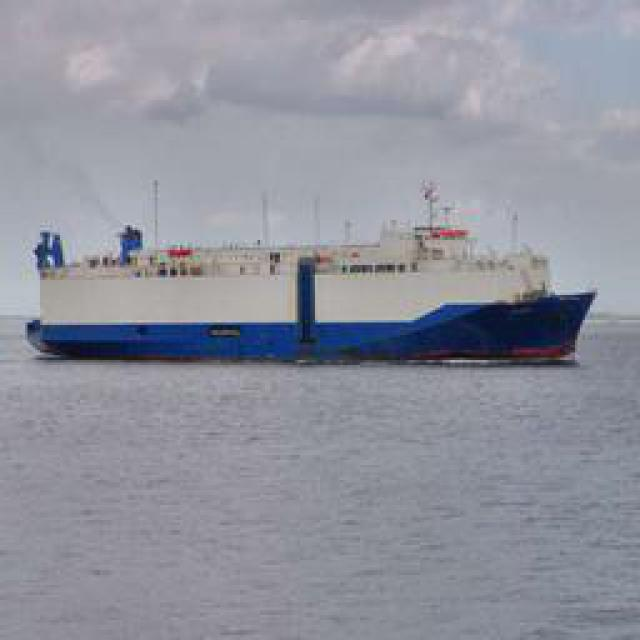Ship: (30, 187, 588, 367)
